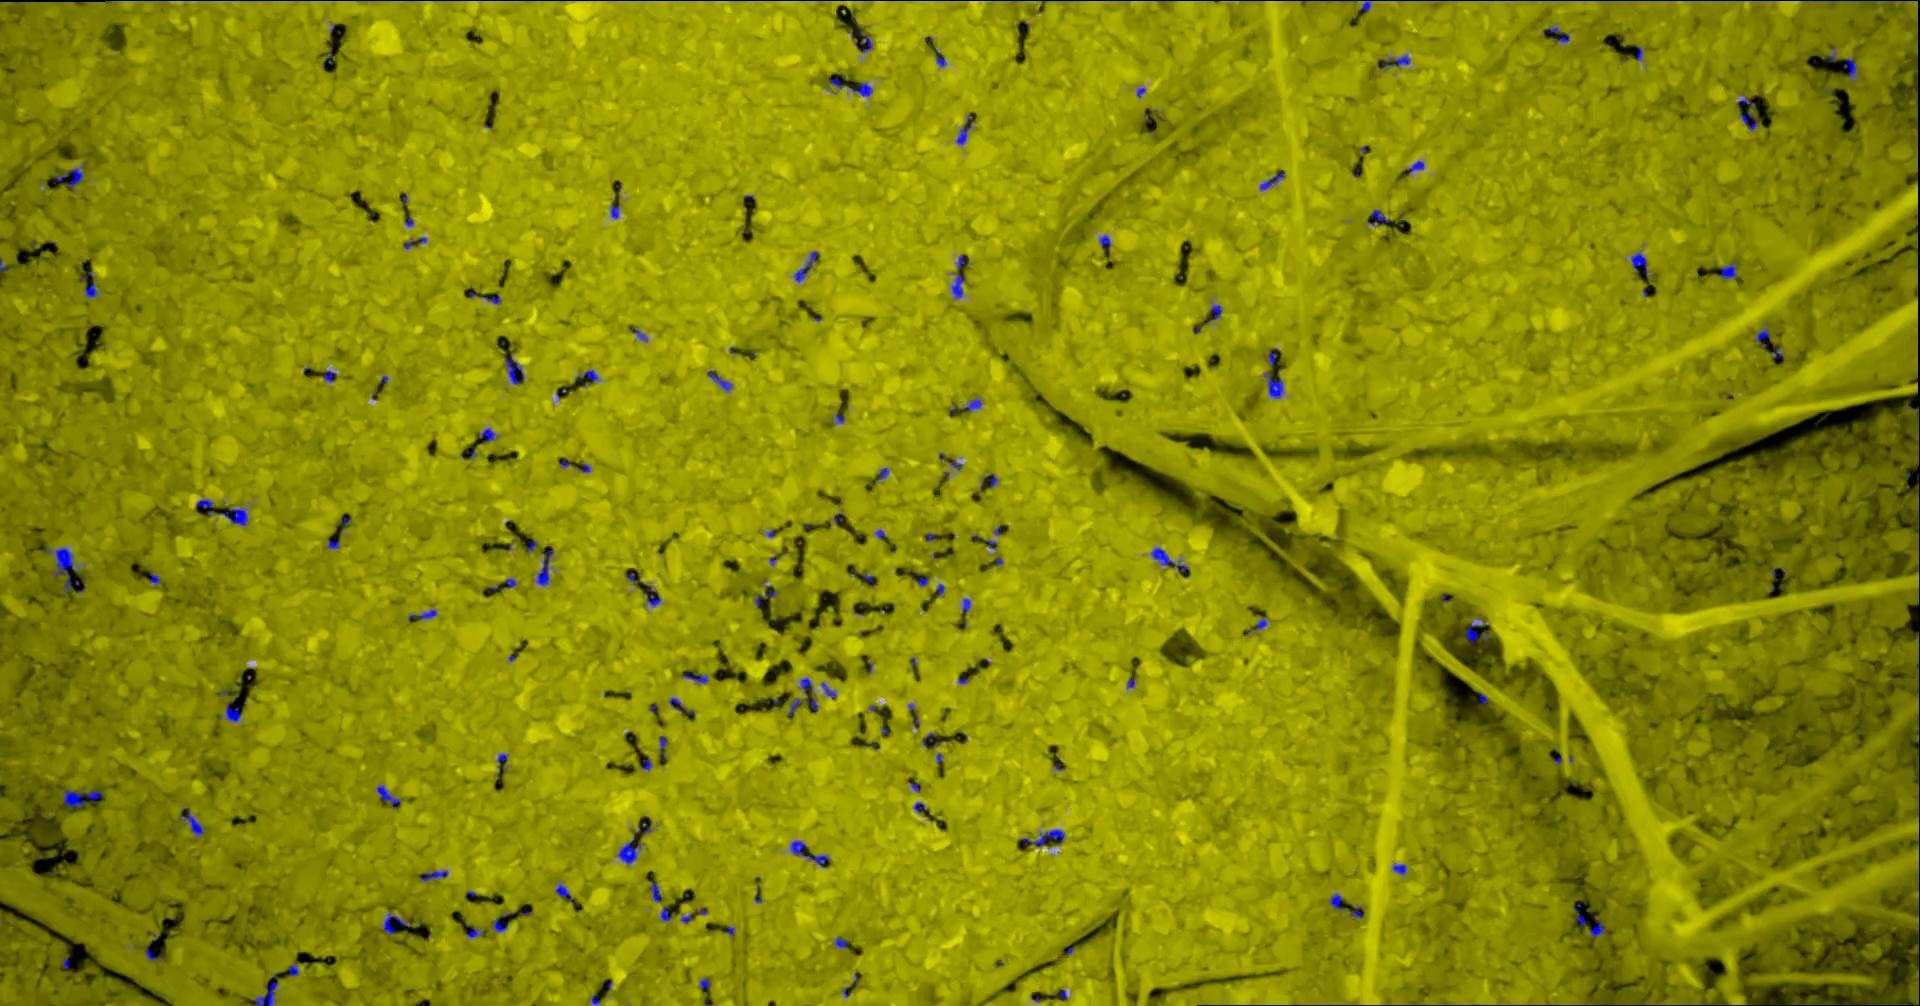ant: (44, 547, 84, 592), (196, 498, 248, 525), (789, 840, 829, 868), (1150, 547, 1189, 573), (56, 163, 85, 191), (792, 251, 818, 282), (1018, 829, 1064, 846), (63, 788, 102, 807), (254, 973, 277, 1005), (179, 807, 204, 835), (535, 547, 552, 586), (382, 912, 410, 934), (505, 352, 523, 384), (376, 784, 399, 808), (616, 840, 640, 862), (707, 370, 731, 391), (1263, 371, 1283, 398), (1258, 171, 1284, 191), (955, 114, 971, 144), (1630, 251, 1648, 278), (1377, 55, 1410, 69), (1368, 210, 1393, 227), (1543, 25, 1570, 42), (1714, 260, 1736, 278), (218, 705, 241, 721), (83, 271, 97, 297), (1738, 111, 1757, 130), (682, 671, 709, 683), (577, 370, 598, 385), (951, 273, 964, 298), (850, 83, 872, 97), (408, 608, 436, 620), (477, 427, 497, 443), (644, 587, 660, 606), (1330, 893, 1349, 909), (420, 870, 447, 882), (1843, 57, 1857, 79), (855, 36, 872, 52), (555, 884, 573, 901), (1465, 622, 1481, 641), (1755, 326, 1769, 347), (799, 677, 811, 699), (1589, 921, 1606, 936), (145, 948, 164, 962), (961, 398, 982, 410), (465, 923, 483, 937), (403, 238, 425, 248), (822, 682, 836, 699), (1406, 160, 1423, 173), (650, 882, 662, 901), (1208, 304, 1222, 319), (497, 753, 507, 774), (1575, 904, 1585, 925), (1098, 234, 1110, 251), (913, 801, 927, 815), (669, 697, 684, 710), (491, 918, 507, 931), (660, 904, 672, 920), (1349, 906, 1363, 917), (834, 936, 847, 948), (1392, 864, 1406, 874), (659, 735, 665, 757), (288, 963, 298, 976), (610, 205, 618, 218), (1917, 493, 1919, 549)
